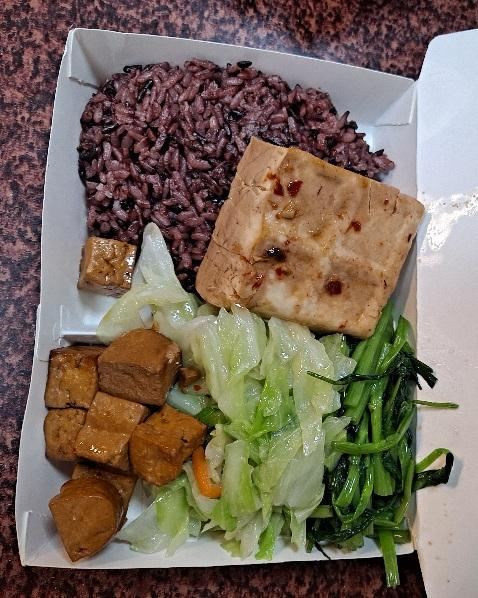big grilled chicken leg: (10, 5, 458, 584)
braised fish: (79, 56, 392, 298)
braised fish fillet: (184, 142, 433, 336), (36, 328, 199, 562), (196, 312, 340, 557), (333, 315, 426, 551)
